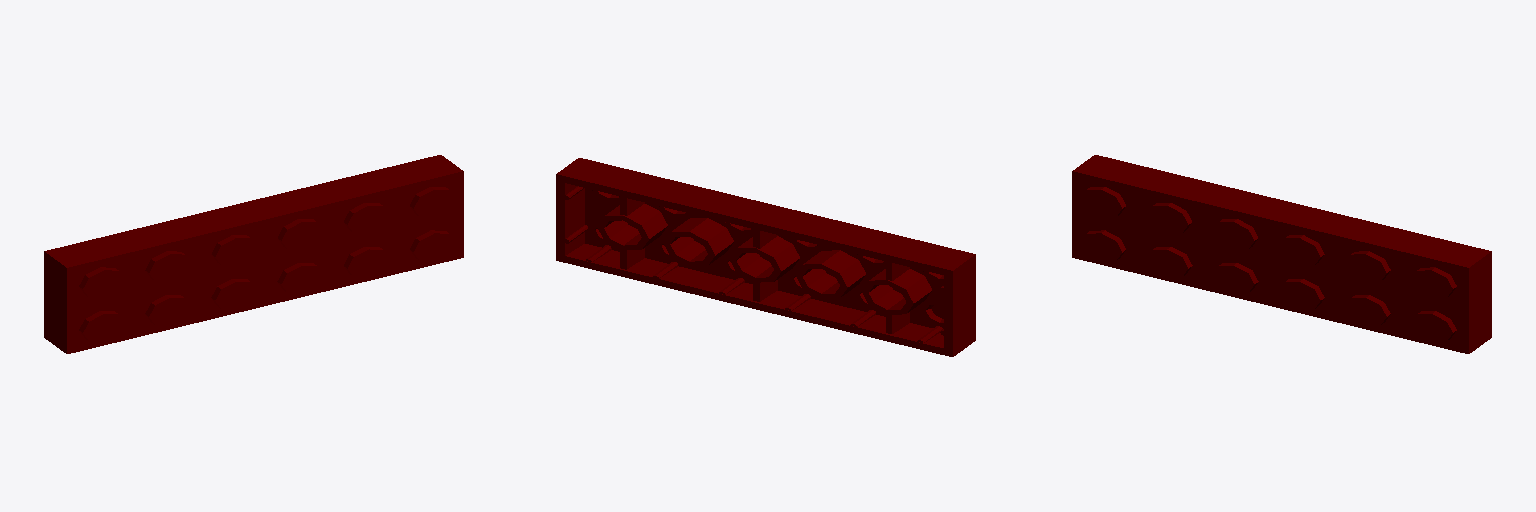
Rendered from bloc6X2X2rouge.obj.
3 renders of one model, left to right at view 1: azimuth 30°, elevation 25°; view 2: azimuth 150°, elevation 25°; view 3: azimuth 330°, elevation 25°, orthographic.
Visible parts, largest first — view 1: Lego_Bricks_Random_Pieces_convert.001; view 2: Lego_Bricks_Random_Pieces_convert.001; view 3: Lego_Bricks_Random_Pieces_convert.001.
Boxes of the visible parts, x1=… form: Lego_Bricks_Random_Pieces_convert.001: x1=44, y1=155, x2=463, y2=353; Lego_Bricks_Random_Pieces_convert.001: x1=556, y1=158, x2=975, y2=356; Lego_Bricks_Random_Pieces_convert.001: x1=1072, y1=155, x2=1491, y2=353.
Bounding box in the file's own units: 4.68 × 0.976 × 0.5492.